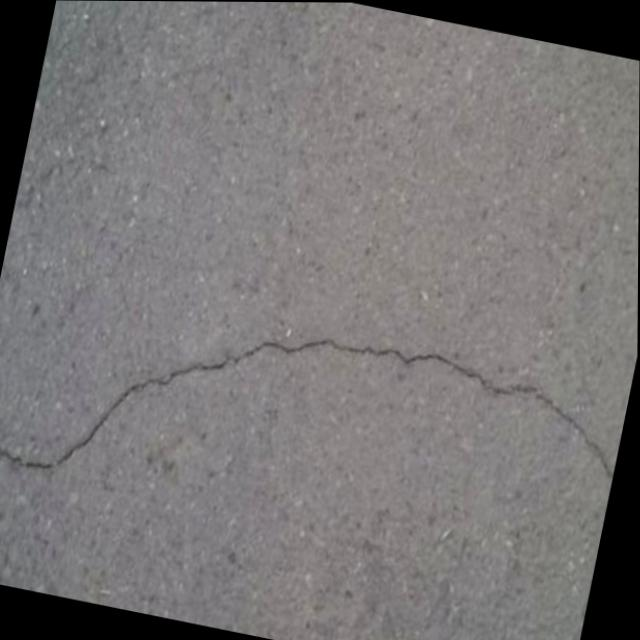Crack: (0, 252, 634, 595)
